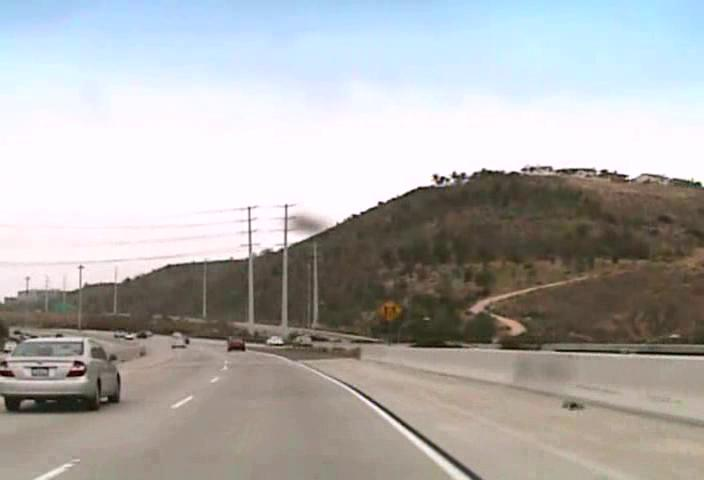addedLane: (376, 297, 403, 323)
